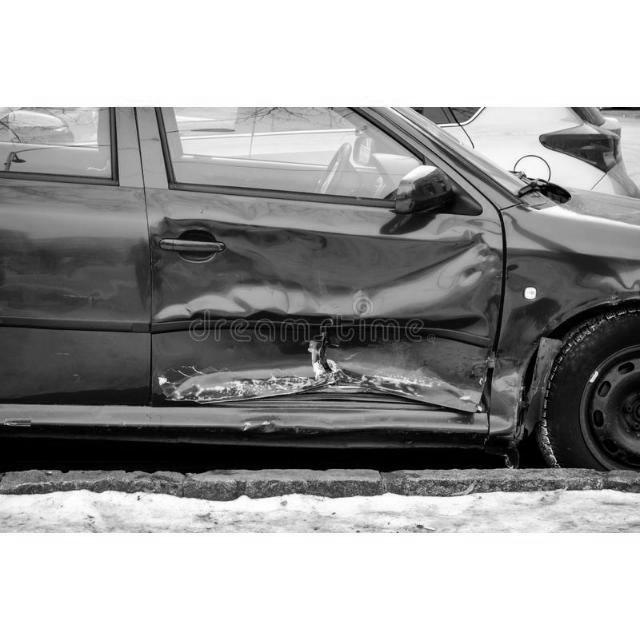Runningboard-Damage: (207, 402, 423, 454), (0, 398, 152, 452)
doorouter-dent: (151, 196, 491, 411)
fender-dent: (501, 209, 640, 367)
